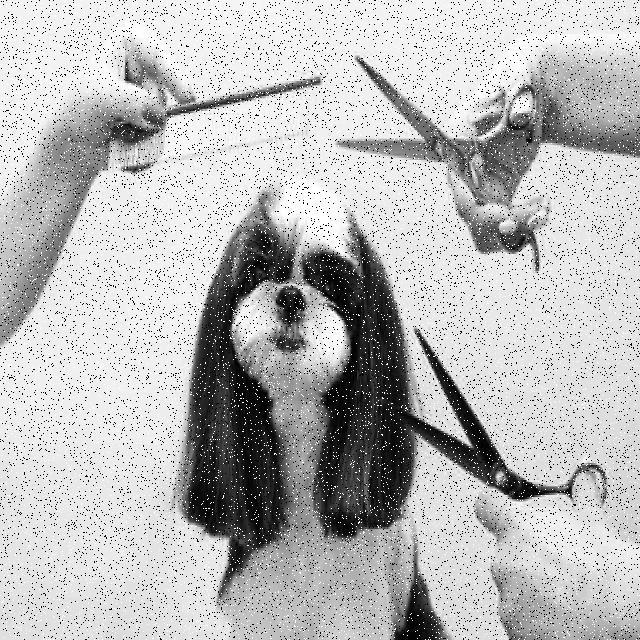scissors: (374, 322, 610, 600), (336, 48, 556, 274)
